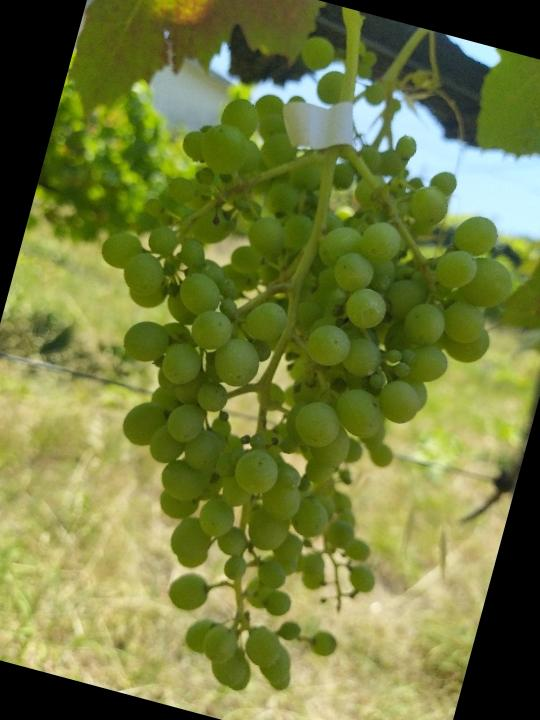grape: (0, 22, 540, 720)
